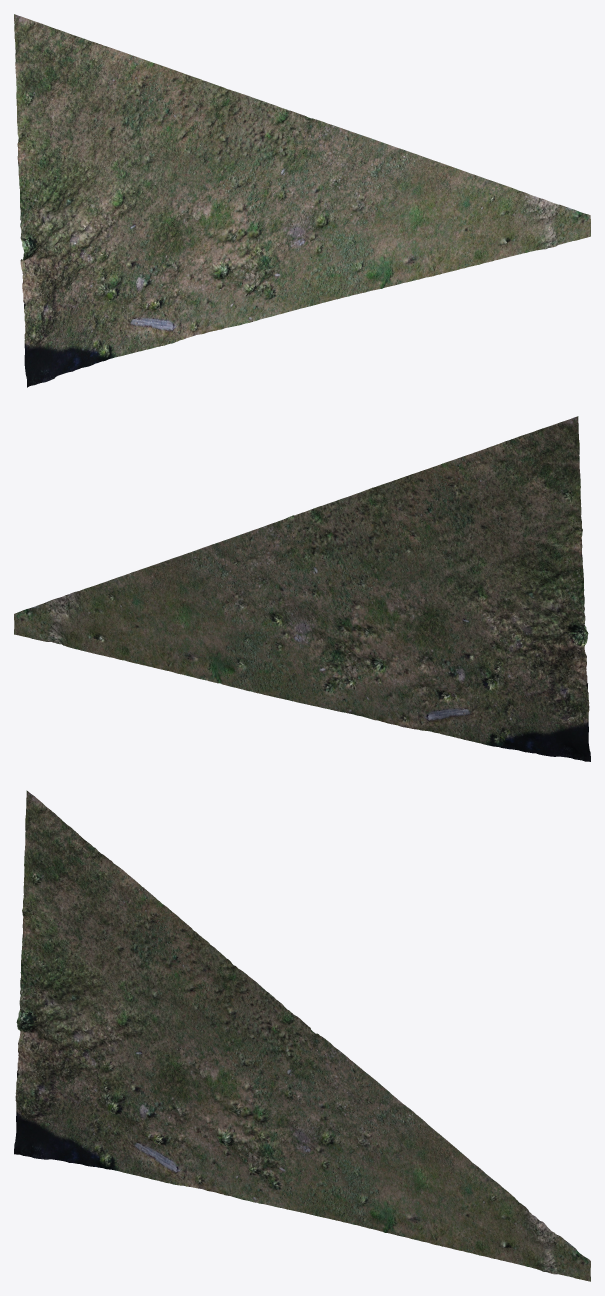
Rendered from Tile_4.fbx.
3 renders of one model, top to bottom at view 1: azimuth 30°, elevation 25°; view 2: azimuth 150°, elevation 25°; view 3: azimuth 330°, elevation 25°, orthographic. The views are drawn at different scales.
Parts seen in each view (by area): view 1: DefaultName; view 2: DefaultName; view 3: DefaultName.
Boxes of the visible parts, x1=… form: DefaultName: x1=14, y1=14, x2=590, y2=387; DefaultName: x1=14, y1=416, x2=590, y2=761; DefaultName: x1=14, y1=790, x2=590, y2=1281.
Bounding box in the file's own units: 27.49 × 16.56 × 1.22.
1 material, 1 textured.
